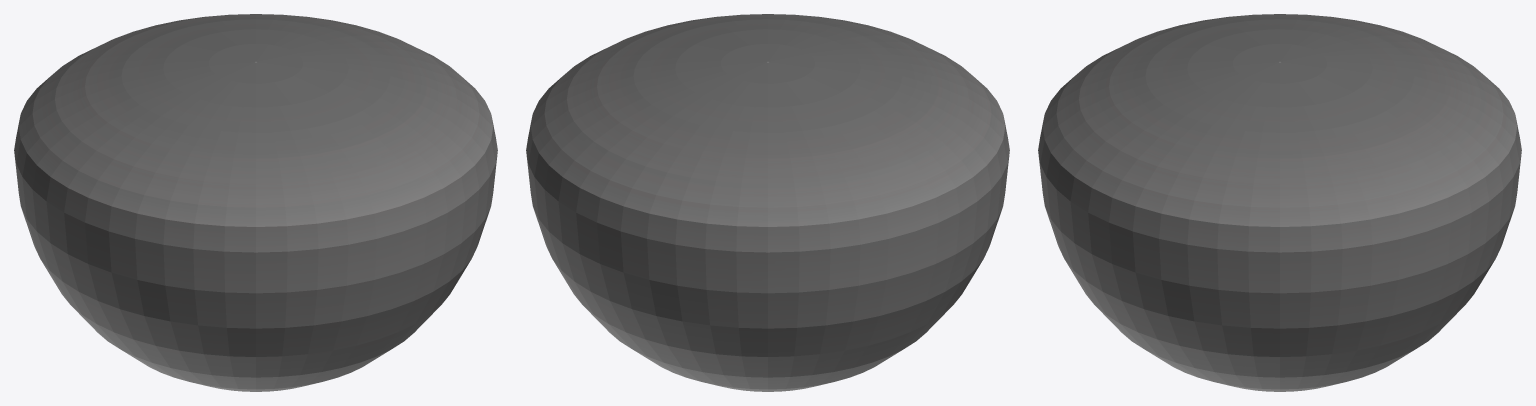
Rendered from Skydome.obj.
3 views of the same model, side by side, from view 1: azimuth 30°, elevation 25°; view 2: azimuth 150°, elevation 25°; view 3: azimuth 270°, elevation 25° (orthographic).
Visible parts, largest first — view 1: 球.001_球.002; view 2: 球.001_球.002; view 3: 球.001_球.002.
Boxes of the visible parts, x1,y1,x2,y2 form: 球.001_球.002: (14, 14, 497, 391); 球.001_球.002: (526, 14, 1009, 391); 球.001_球.002: (1038, 14, 1521, 391).
Bounding box in the file's own units: 2 × 1.4 × 2.
1 material, 1 textured.
